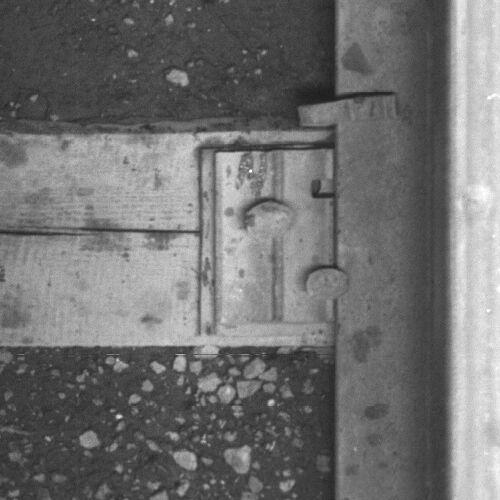crutch: (297, 90, 400, 128)
do: (214, 148, 351, 322)
rail: (447, 1, 500, 500)
tie_wood: (1, 129, 335, 351)
wood_crack: (1, 221, 203, 241)
